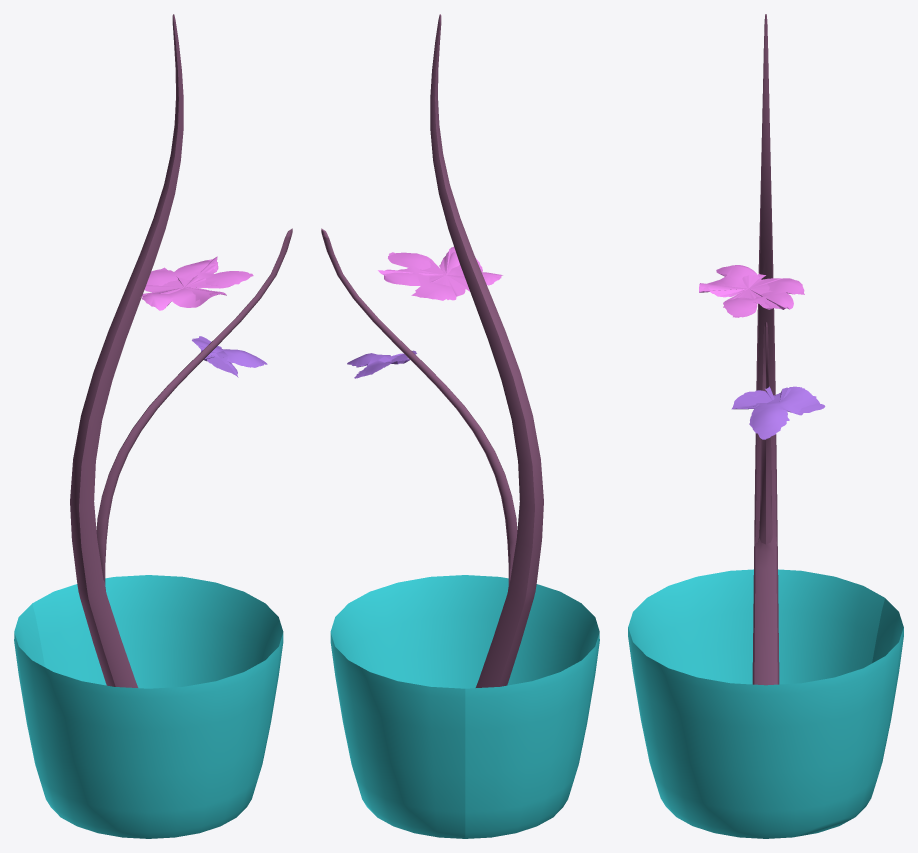
3 views of the same model, side by side, from view 1: azimuth 30°, elevation 25°; view 2: azimuth 150°, elevation 25°; view 3: azimuth 270°, elevation 25° (orthographic). The views are drawn at different scales.
Visible parts, largest first — view 1: split_parent_2, split_parent_1, split_parent_3, split_parent_4; view 2: split_parent_2, split_parent_1, split_parent_3, split_parent_4; view 3: split_parent_2, split_parent_1, split_parent_3, split_parent_4.
Part boxes in pixels (box(x1,y1,x2,y2)): split_parent_2: box(14, 575, 283, 838); split_parent_1: box(70, 14, 292, 687); split_parent_3: box(140, 256, 253, 310); split_parent_4: box(192, 336, 267, 377); split_parent_2: box(330, 575, 599, 838); split_parent_1: box(321, 14, 543, 687); split_parent_3: box(378, 246, 502, 300); split_parent_4: box(347, 350, 416, 378); split_parent_2: box(628, 569, 903, 838); split_parent_1: box(752, 14, 779, 685); split_parent_3: box(699, 265, 804, 317); split_parent_4: box(731, 386, 825, 439).
Bounding box in the file's own units: 0.3513 × 1 × 0.3145.
